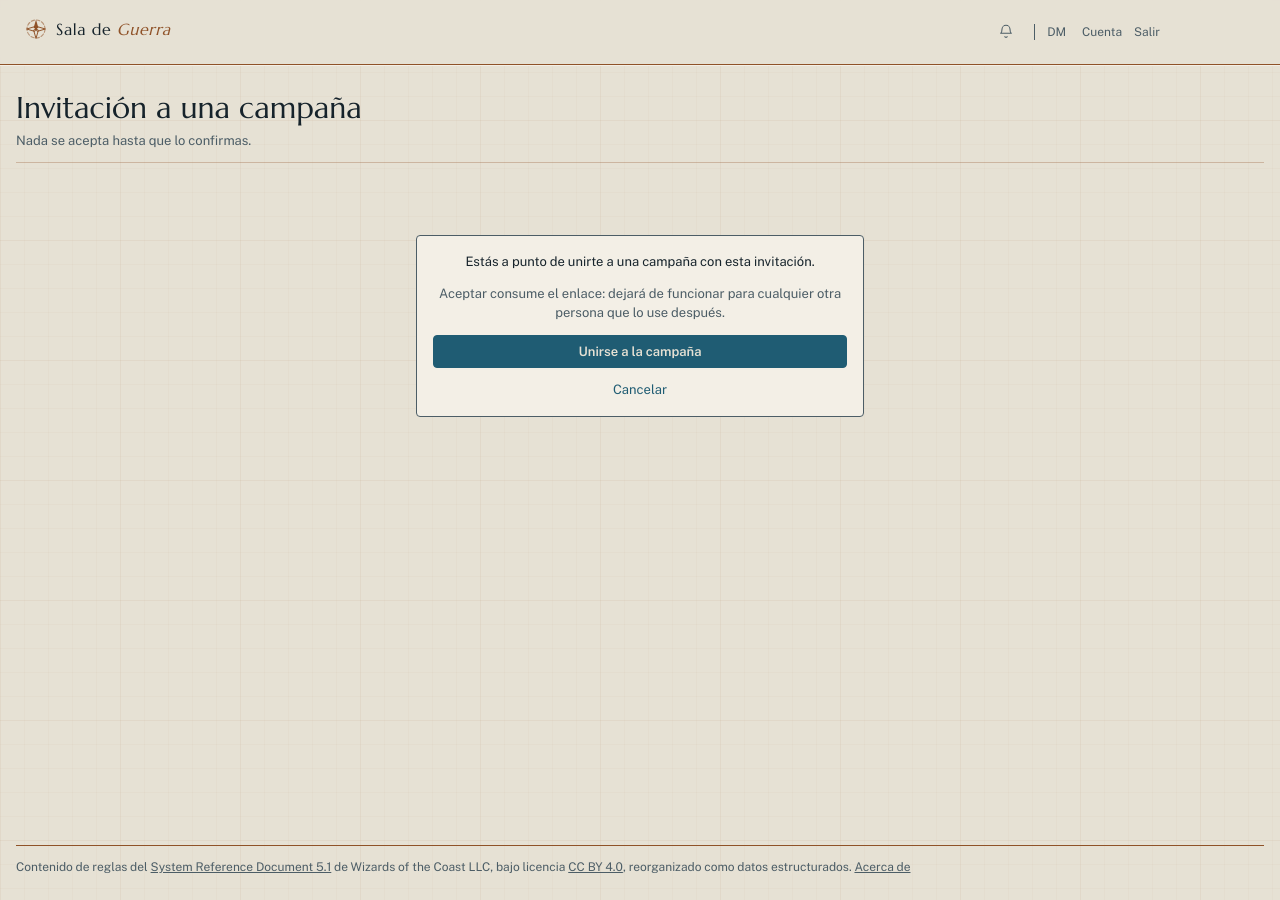
JoinPage › shows the server's error, in Spanish, for an invalid or already-used token, with a way out
Click the button "Unirse a la campaña".
click(640, 351)  # box [433,334,847,368]
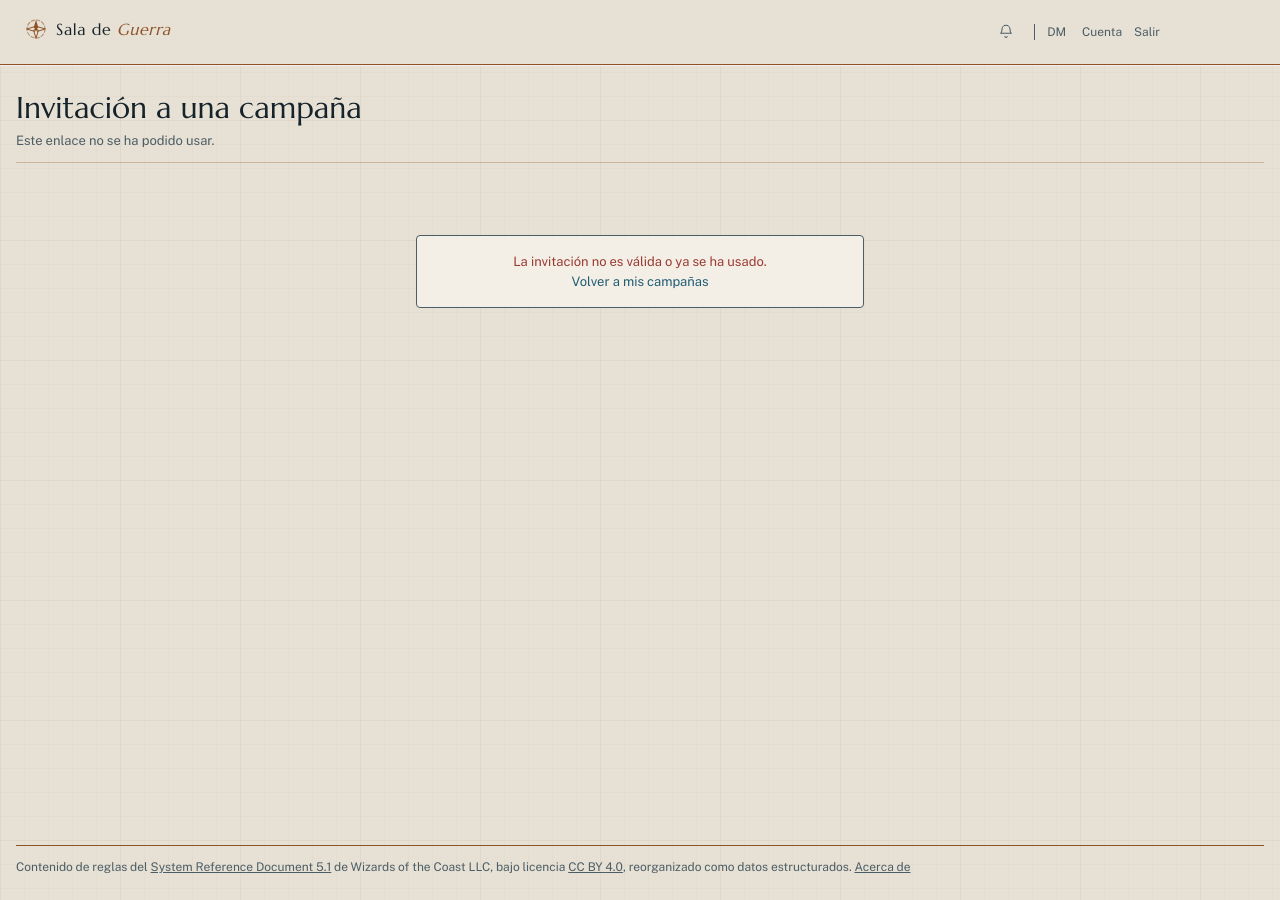
expect the text "La invitación no es válida o ya se ha usado." is shown: met, box [513,254,767,269]
expect the link "Volver a mis campañas" is shown: met, box [572,274,708,288]
